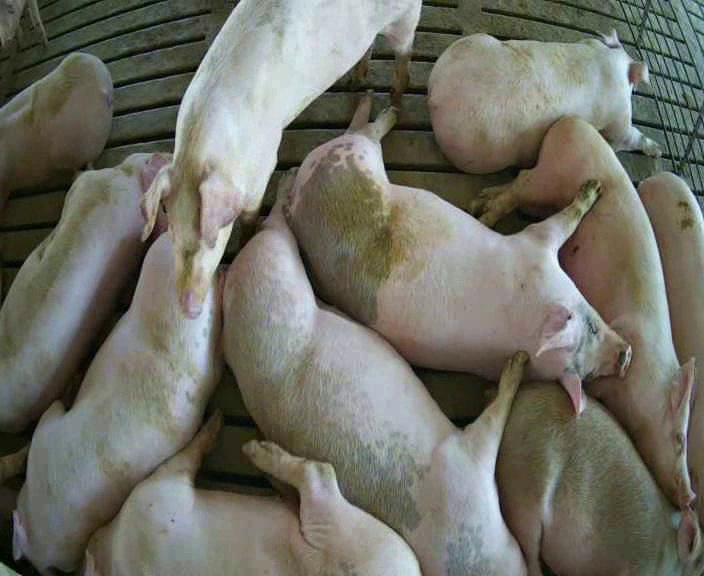pig: (225, 168, 524, 573), (287, 94, 630, 411), (144, 2, 419, 315), (475, 117, 693, 508), (0, 234, 221, 571), (84, 416, 419, 573), (0, 153, 168, 430), (496, 382, 703, 575), (428, 32, 661, 172), (639, 172, 703, 524), (0, 53, 112, 209)
